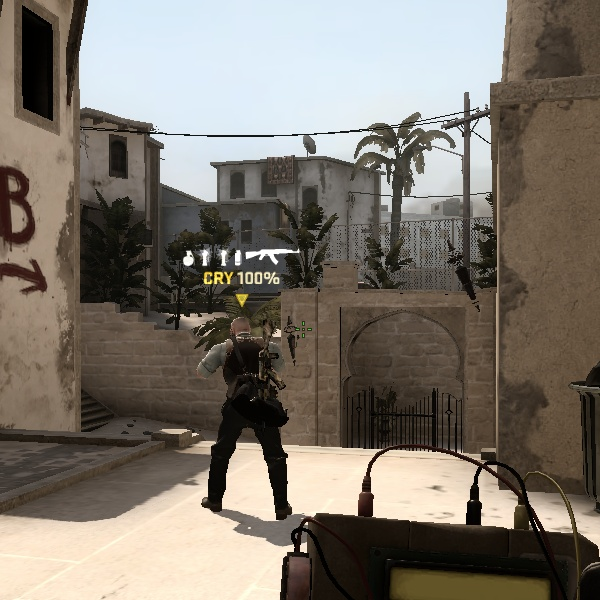t_body: (185, 309, 308, 521)
t_head: (221, 311, 259, 350)
